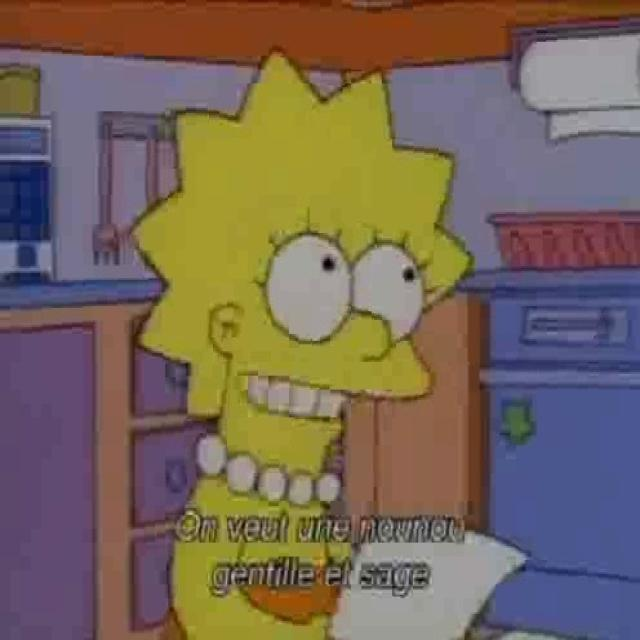Lisa Simpson: (127, 43, 474, 507)
